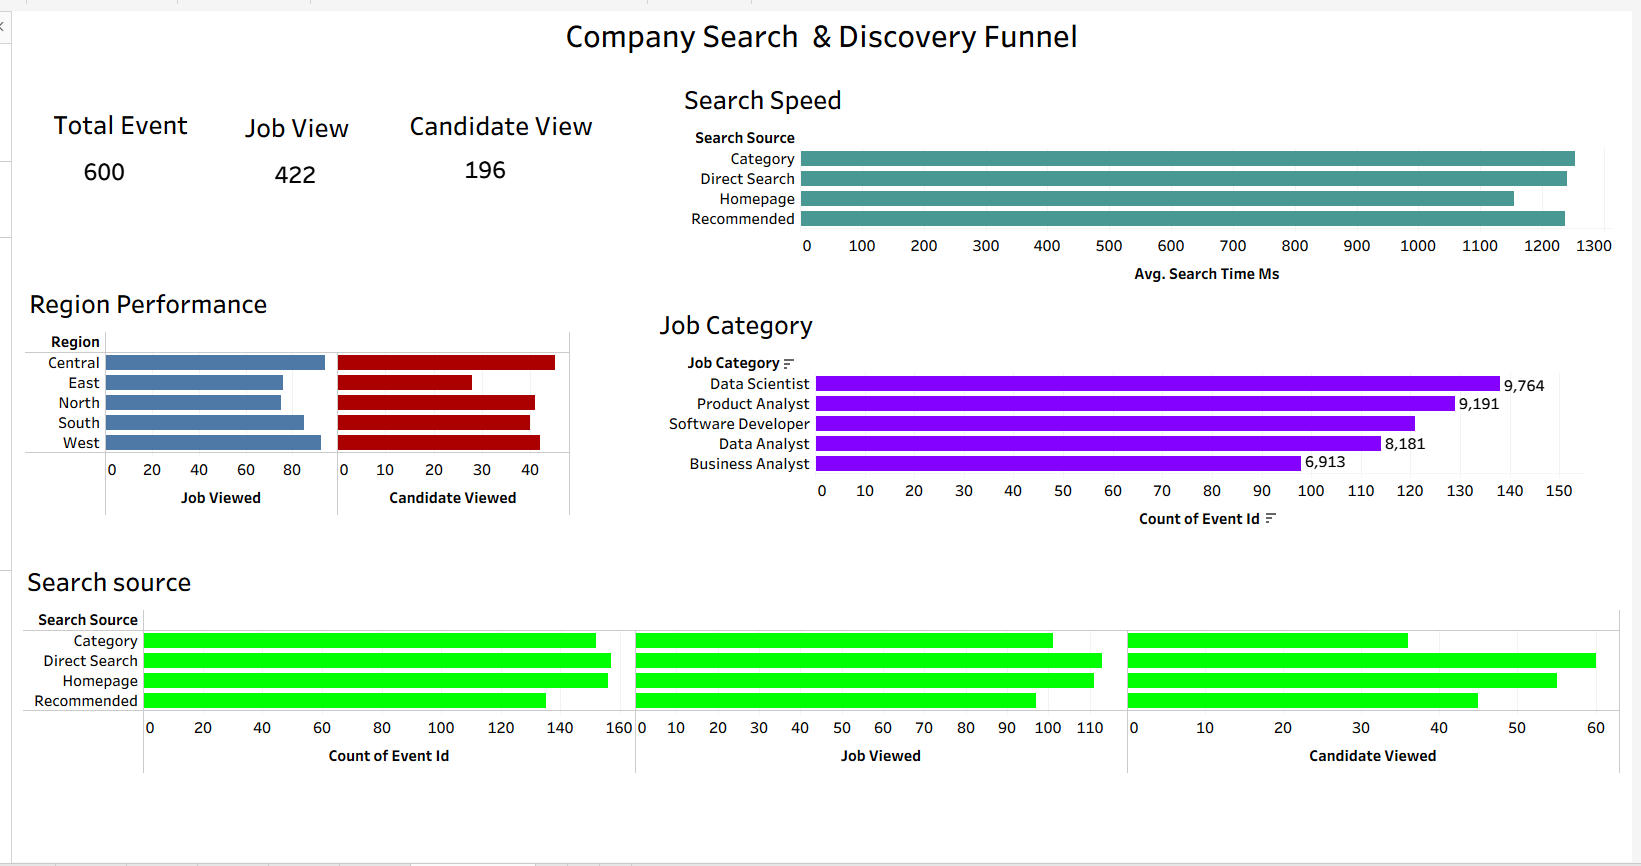

This screenshot's page, from the dashboard's own definition file:
{"tool":"tableau","page":{"name":"Dashboard 1","canvas":[1620,860],"ordinal":0},"visuals":[{"type":"title","box":[8,8,1604,49]},{"type":"worksheet","title":"Sheet 7","mark":"Automatic","rows":["search_source"],"cols":["search_time_ms"],"box":[668,76,934,217]},{"type":"text","box":[38,105,142,35]},{"type":"text","box":[394,106,191,35]},{"type":"text","box":[229,108,112,35]},{"type":"worksheet","title":"Sheet 3","mark":"Automatic","box":[438,151,85,56]},{"type":"worksheet","title":"Sheet 1","mark":"Automatic","box":[57,153,108,86]},{"type":"worksheet","title":"Sheet 2","mark":"Automatic","box":[248,156,99,55]},{"type":"worksheet","title":"Sheet 6","mark":"Automatic","rows":["region"],"cols":["job_viewed","candidate_viewed"],"box":[13,280,771,251]},{"type":"worksheet","title":"Sheet 5","mark":"Automatic","rows":["job_category"],"cols":["event_id"],"box":[643,301,929,284]},{"type":"worksheet","title":"Sheet 4","mark":"Automatic","rows":["search_source"],"cols":["event_id","job_viewed","candidate_viewed"],"box":[11,558,1598,284]}]}

Visuals, with their boxes in screenshot pixels (x1, y1, x2, y2), scaled from the page's 1620x860 canvas onto the 1641x866 screenshot:
title: box(8, 8, 1633, 57)
"Sheet 7" worksheet: box(677, 77, 1623, 295)
text: box(38, 106, 182, 141)
text: box(399, 107, 593, 142)
text: box(232, 109, 345, 144)
"Sheet 3" worksheet: box(444, 152, 530, 208)
"Sheet 1" worksheet: box(58, 154, 167, 241)
"Sheet 2" worksheet: box(251, 157, 351, 212)
"Sheet 6" worksheet: box(13, 282, 794, 535)
"Sheet 5" worksheet: box(651, 303, 1592, 589)
"Sheet 4" worksheet: box(11, 562, 1630, 848)
